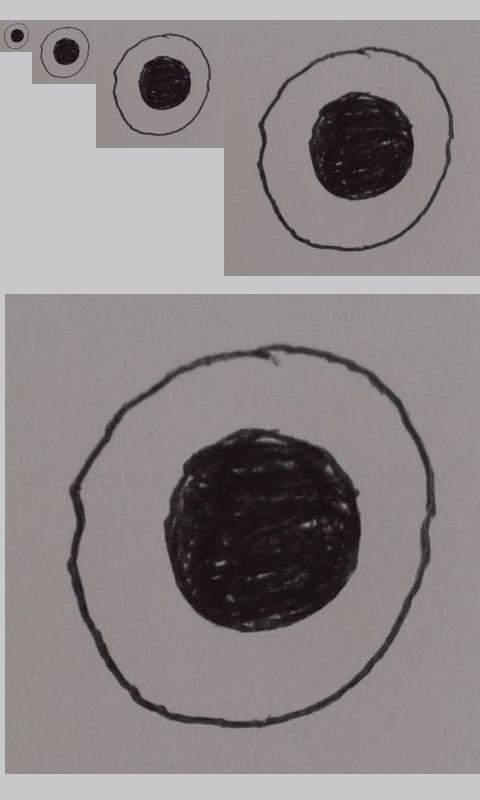radio_button: (63, 340, 438, 731), (255, 44, 455, 252), (111, 32, 213, 137), (39, 25, 91, 79), (3, 22, 30, 50)
